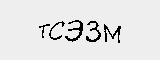З: (86, 17, 102, 43)
М: (103, 24, 125, 46)
С: (47, 19, 66, 41)
Т: (37, 21, 51, 39)
Э: (65, 18, 85, 44)
